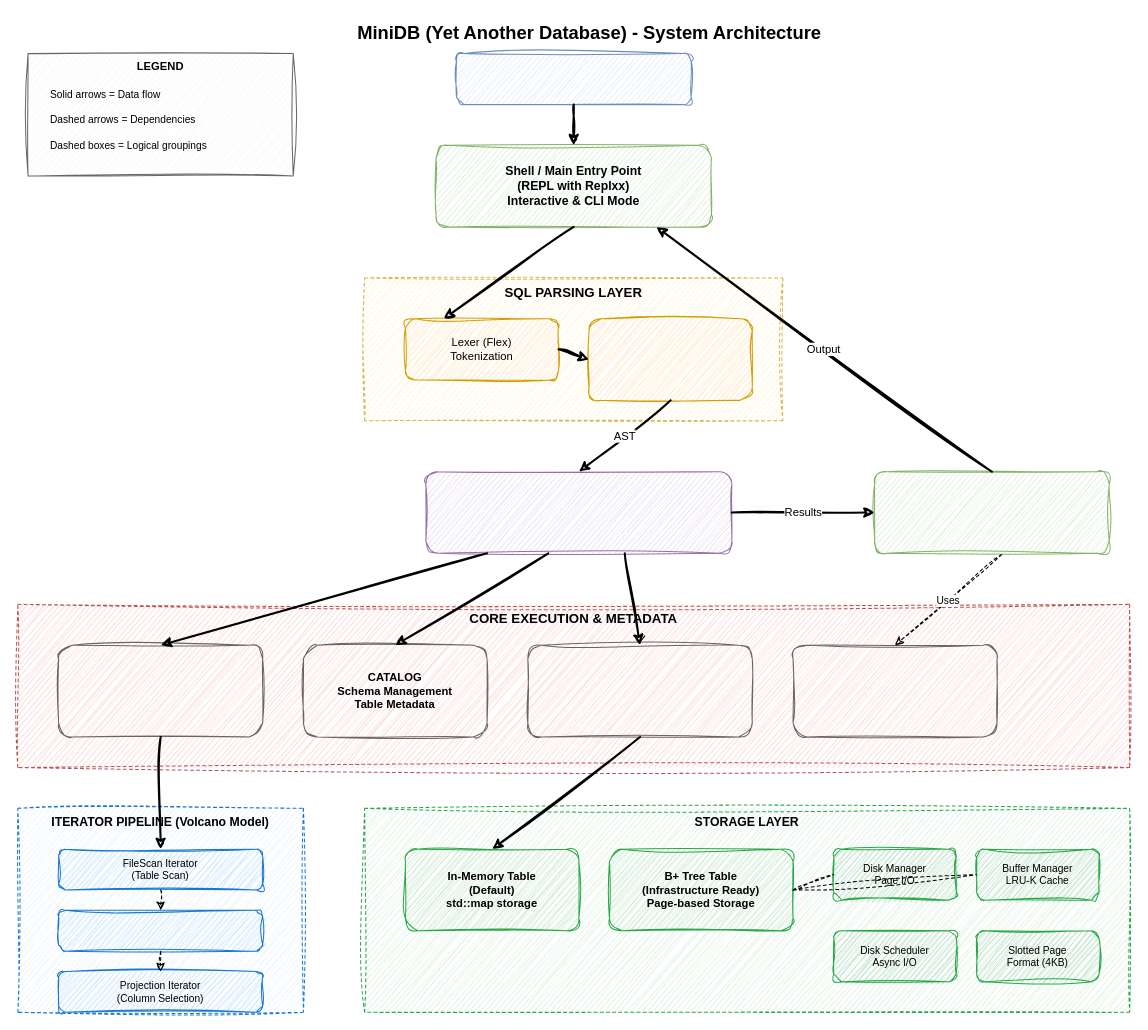
Image size: 1148x1030. Some labels were removed from this diagram. Here are the shapes that lost their labels. From the top down, the centre of each, then its label:
At point (573, 79): "User (SQL Input)".
At point (670, 359): "Parser (Bison) AST Generation (6 Stmt Types)".
At point (578, 512): "EXECUTOR Statement Dispatcher (SELECT, INSERT, CREATE, DROP, etc.)".
At point (991, 512): "Result Printer Format & Display ASCII Table Output".
At point (160, 690): "OPTIMIZER Query Execution Pipeline (Iterator Model)".
At point (639, 690): "TABLE MANAGER Table Instance Management (InMemory / BPTree)".
At point (894, 690): "SERIALIZATION RowBuilder / RowReader Type-safe Binary Format".
At point (160, 930): "Selection Iterator (WHERE Clause Filter)".
